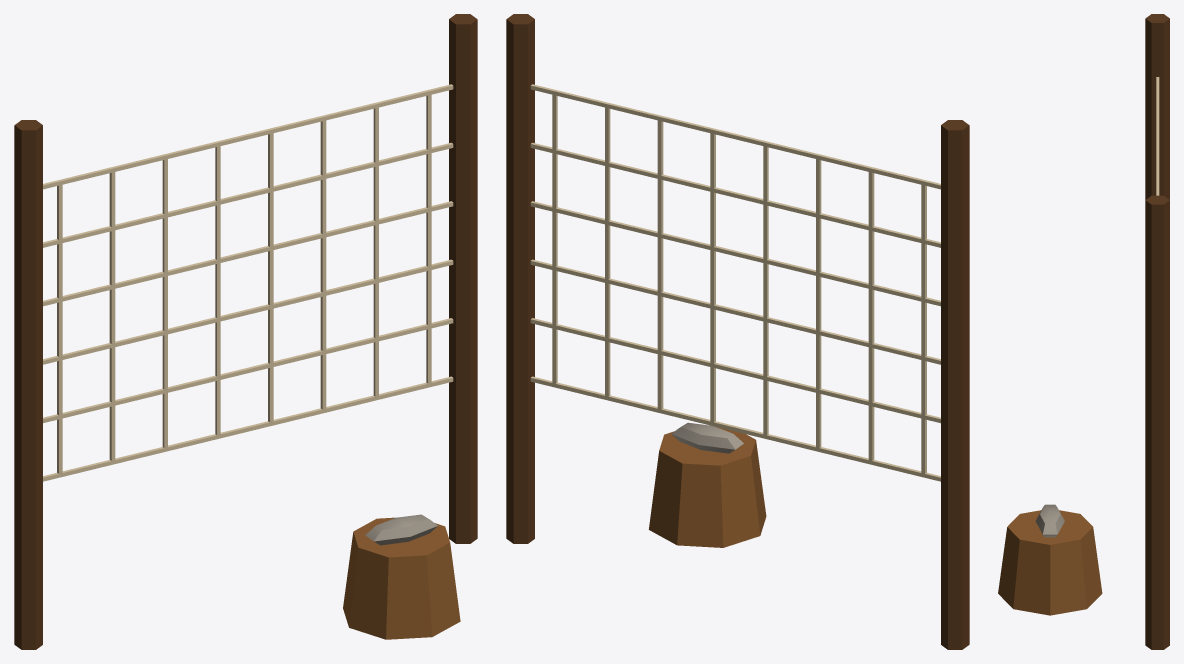
File: PR_Decor_Ag.fbx
3 views of the same model, side by side, from view 1: azimuth 30°, elevation 25°; view 2: azimuth 150°, elevation 25°; view 3: azimuth 270°, elevation 25° (orthographic). The views are drawn at different scales.
Visible parts, largest first — view 1: PR_Decor_Ag; view 2: PR_Decor_Ag; view 3: PR_Decor_Ag.
Boxes of the visible parts, x1,y1,x2,y2 form: PR_Decor_Ag: (14,14,477,649); PR_Decor_Ag: (506,14,969,649); PR_Decor_Ag: (998,14,1169,649).
Bounding box in the file's own units: 1.47 × 1.6 × 0.56.
